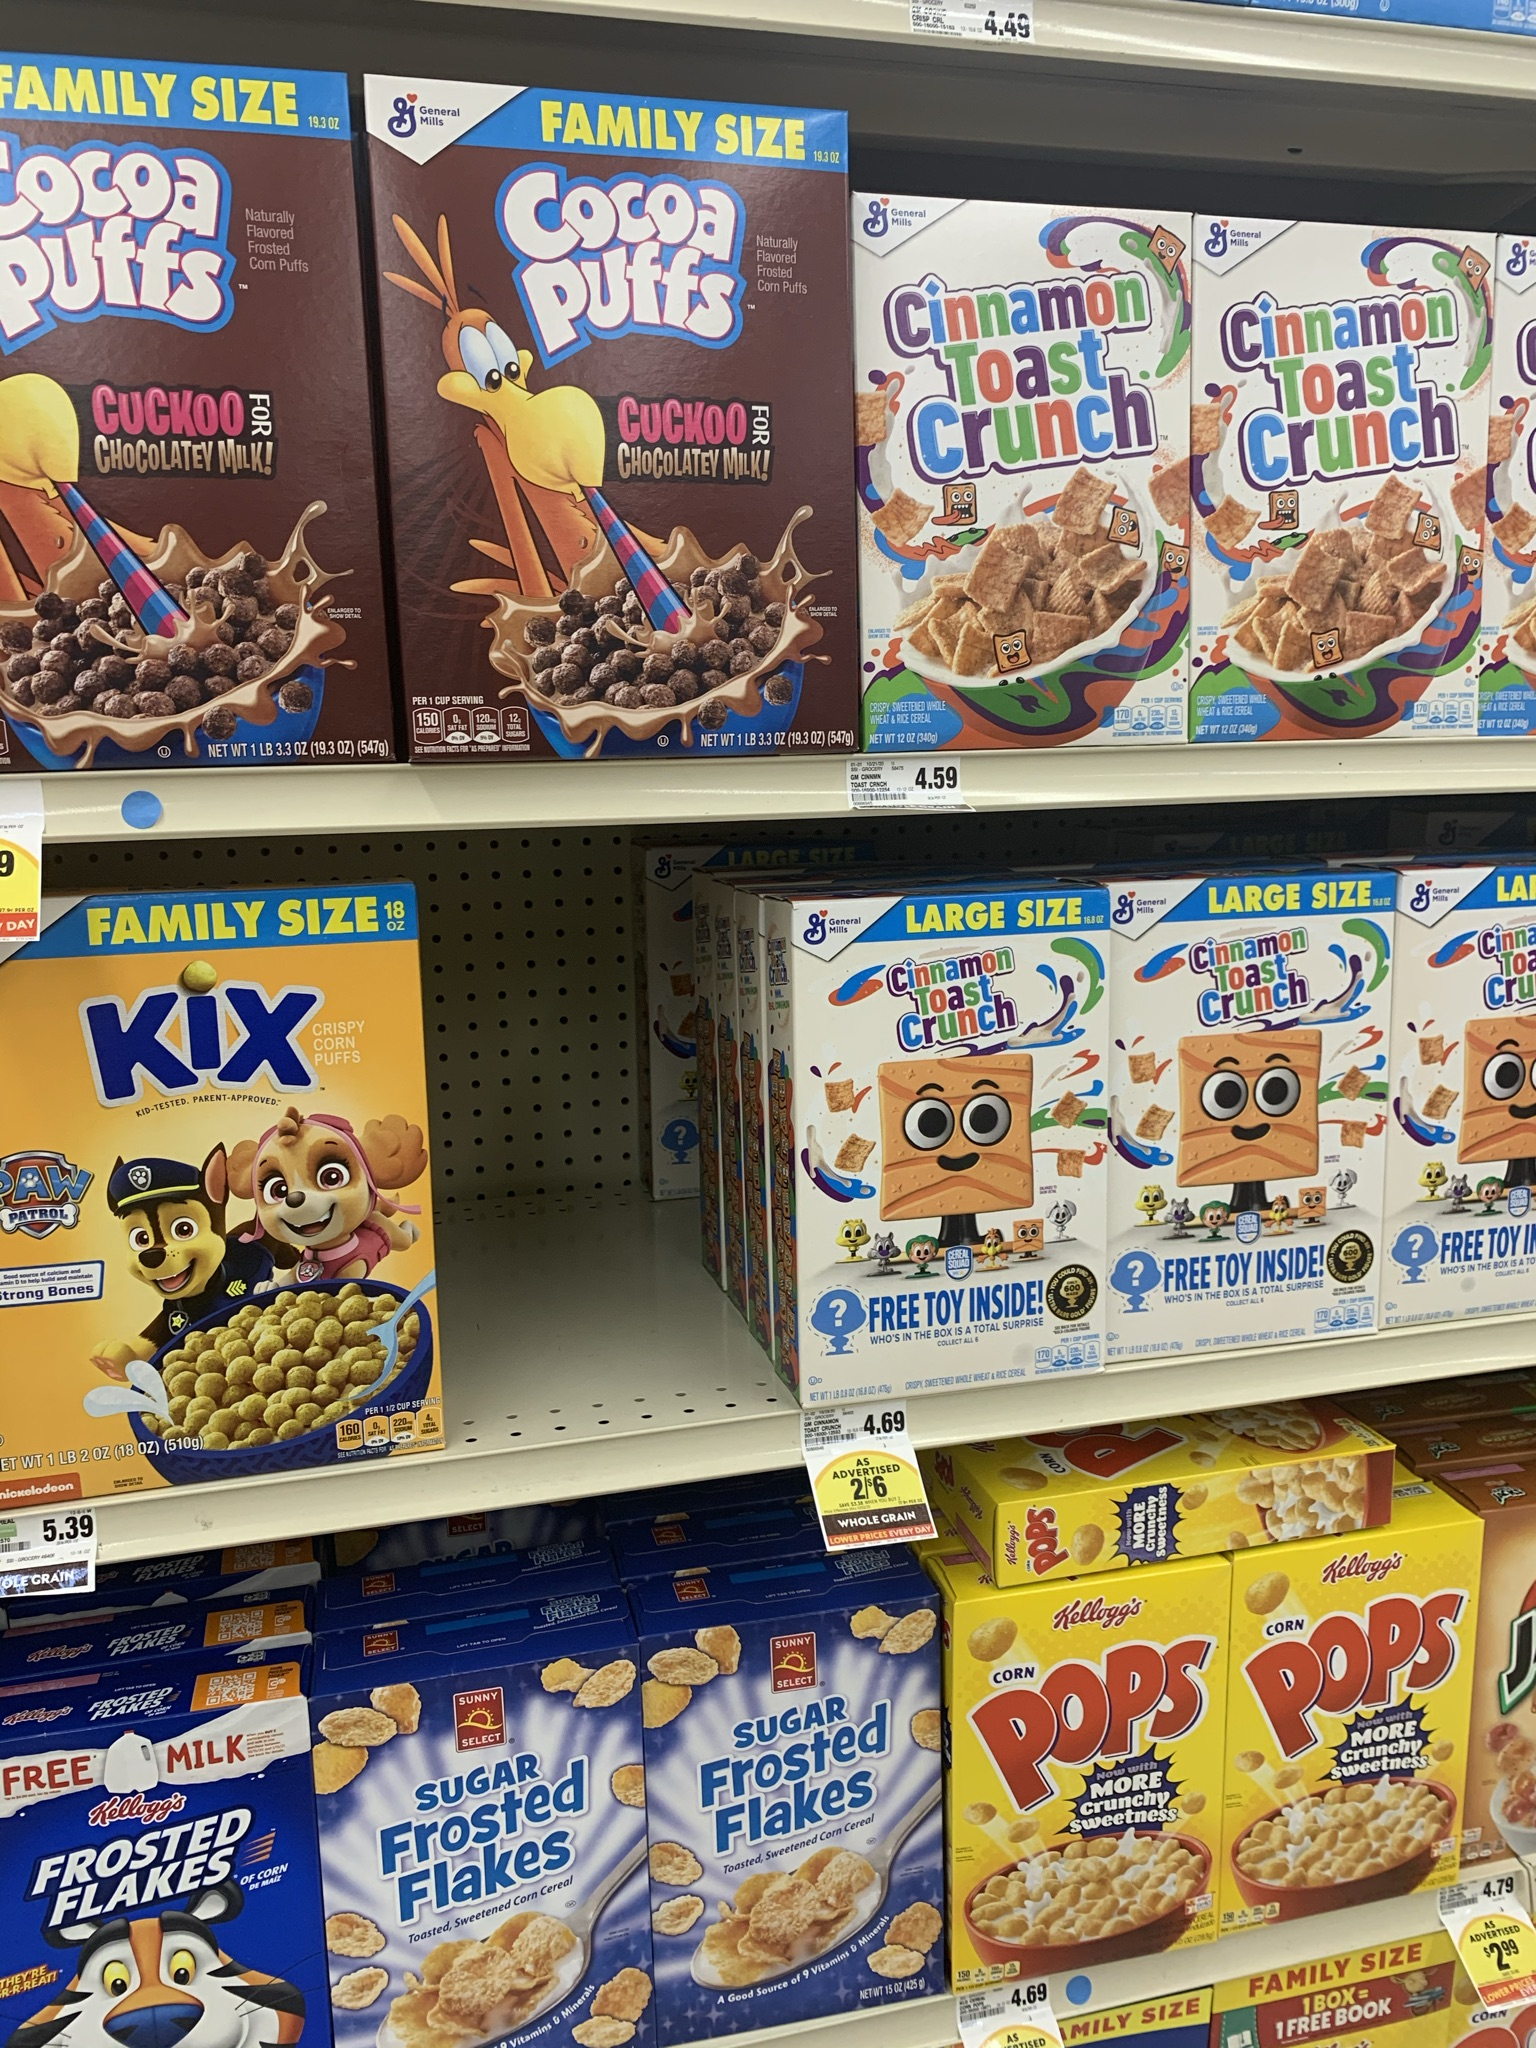Cereal: (850, 185, 1192, 750), (778, 885, 1107, 1392), (1189, 227, 1481, 748), (324, 1625, 650, 2048)
